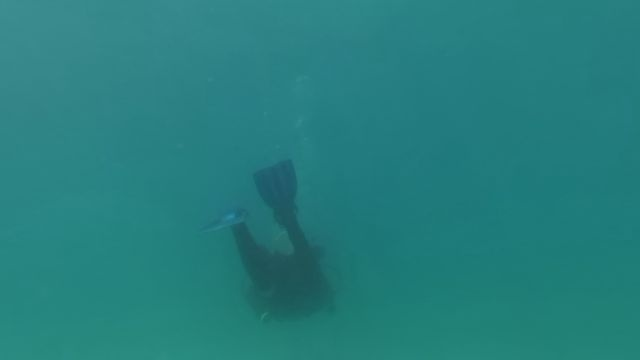Diver: (210, 164, 343, 326)
